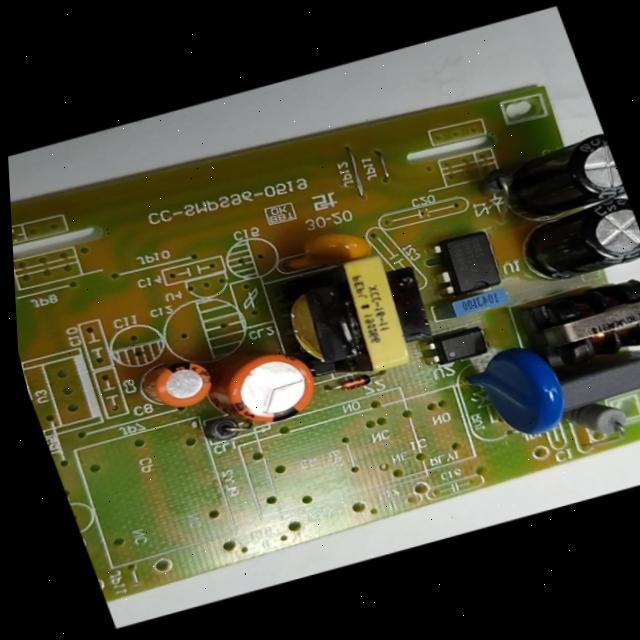Cap1: (211, 345, 329, 435)
Cap2: (148, 360, 222, 415)
Cap3: (512, 194, 640, 292)
Cap4: (501, 129, 631, 227)
MOSFET: (425, 230, 508, 302)
Mov: (452, 339, 574, 450)
Resistor: (567, 395, 638, 449)
Transformer: (269, 243, 448, 394), (518, 272, 640, 380)
